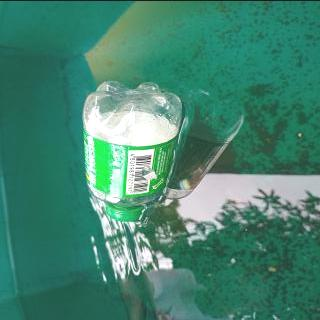bottle: (76, 77, 186, 223)
